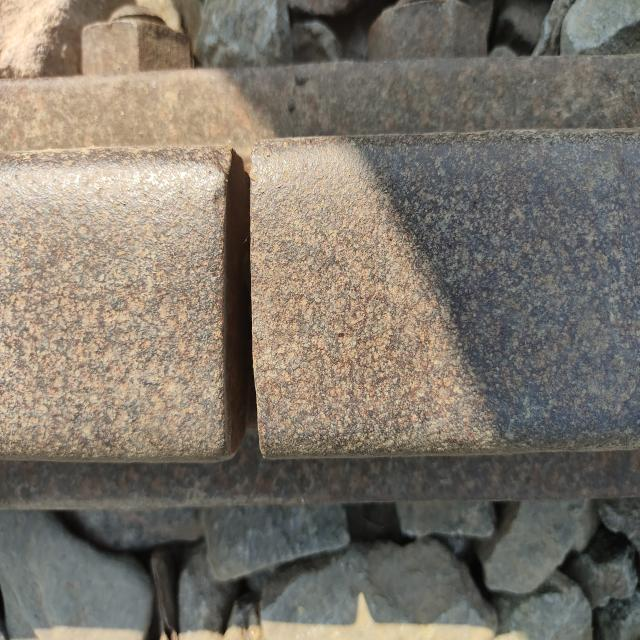defective: (94, 124, 400, 481)
